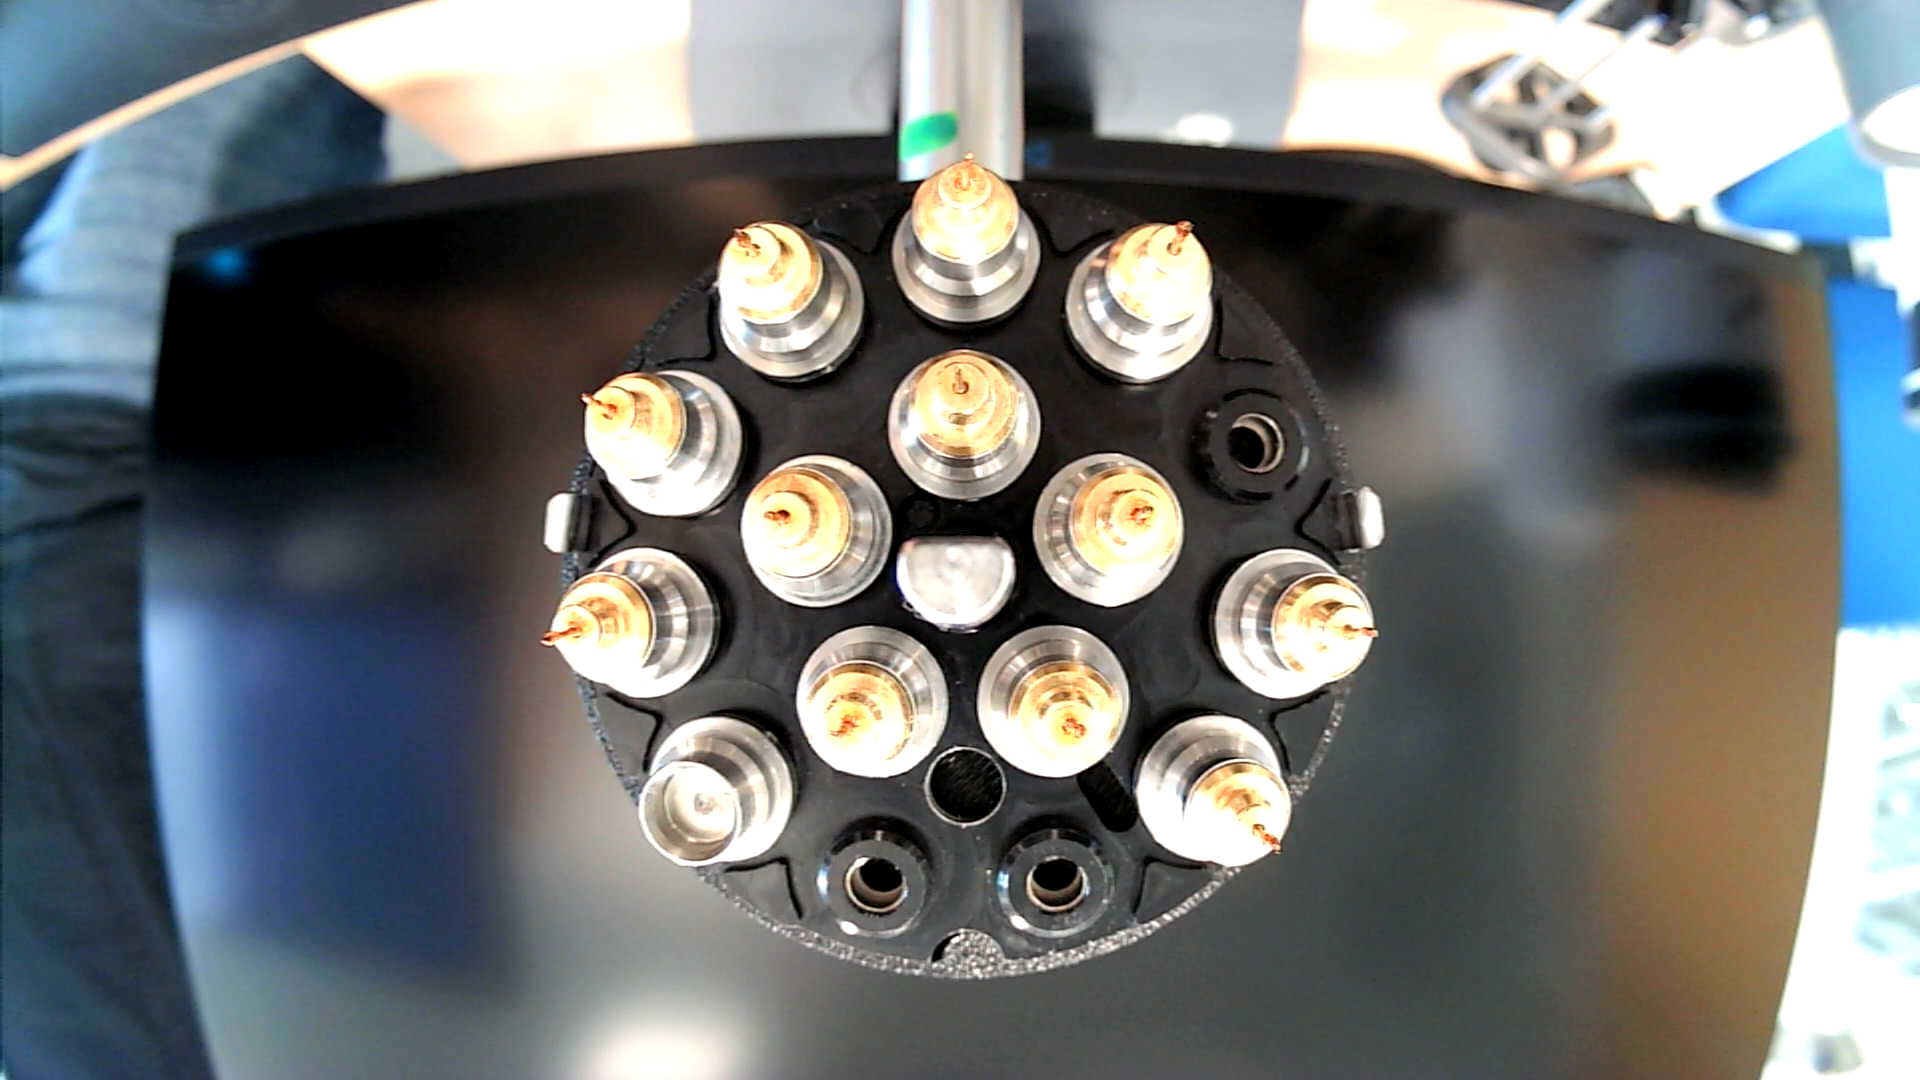adapter: (636, 713, 794, 873)
empty: (993, 811, 1125, 945), (1184, 382, 1316, 509), (816, 812, 939, 945)
hole: (924, 745, 1010, 832)
pin: (541, 549, 725, 702), (1208, 545, 1379, 702), (890, 152, 1043, 327), (574, 365, 742, 524), (711, 222, 866, 392), (1064, 214, 1215, 385), (1134, 707, 1295, 866), (884, 345, 1044, 502), (793, 625, 952, 782), (1030, 446, 1184, 605), (737, 451, 891, 611), (976, 620, 1131, 777)
rod: (894, 529, 1021, 640)
